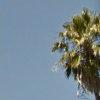Palm tree: (54, 4, 100, 99)
